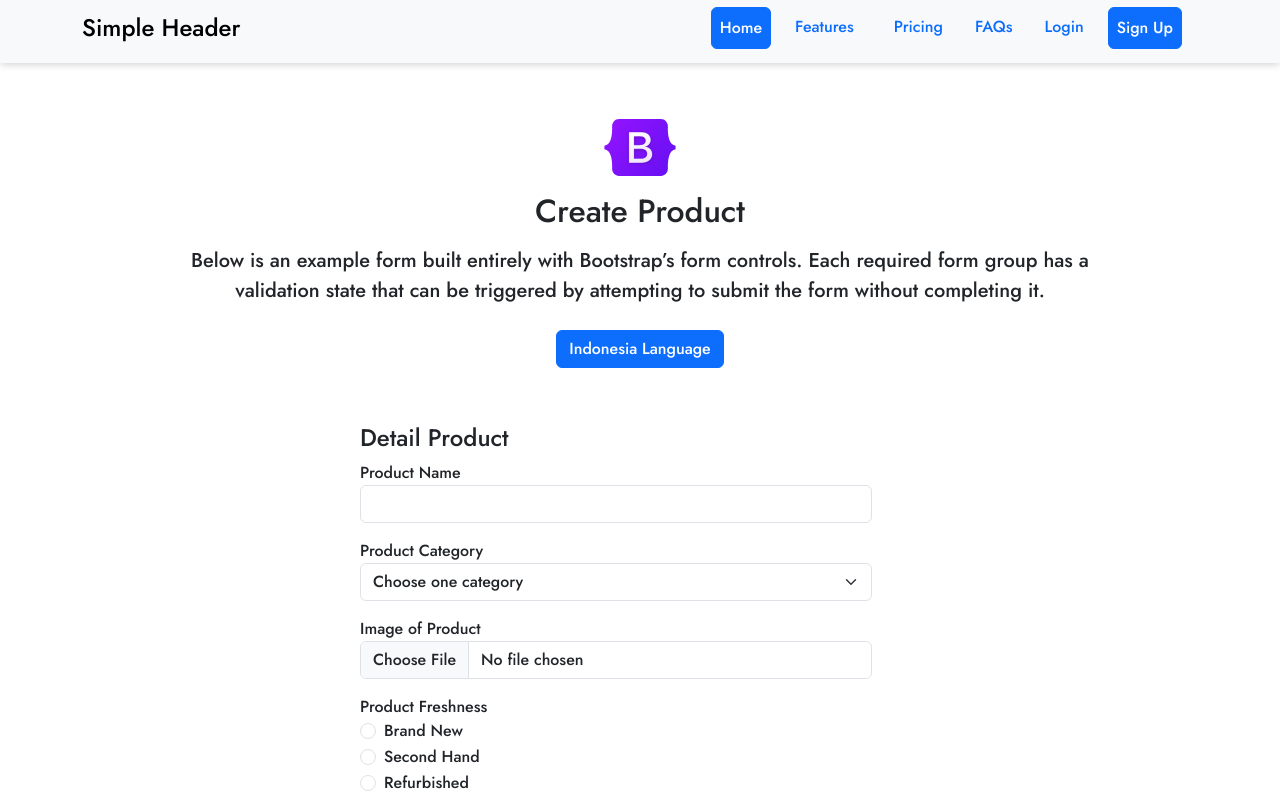
Test: tes validasi product name tidak boleh ada karakter spesial
Type "Test@Product" into the field labelled "Product Name" at (616, 504), box x1=360 y1=485 x2=872 y2=523
(page scrolled)
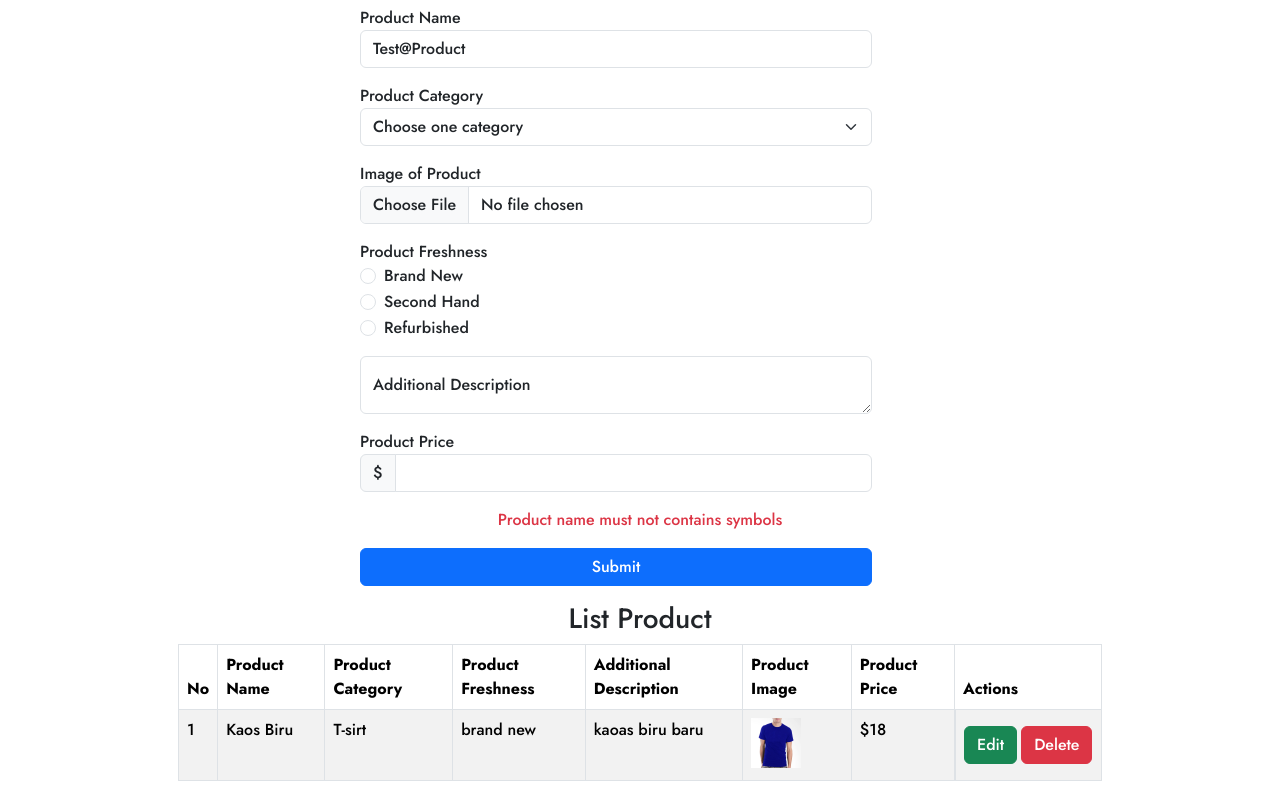
Expected: the text "Product name must not contains symbols" is shown, x1=498 y1=508 x2=782 y2=531
